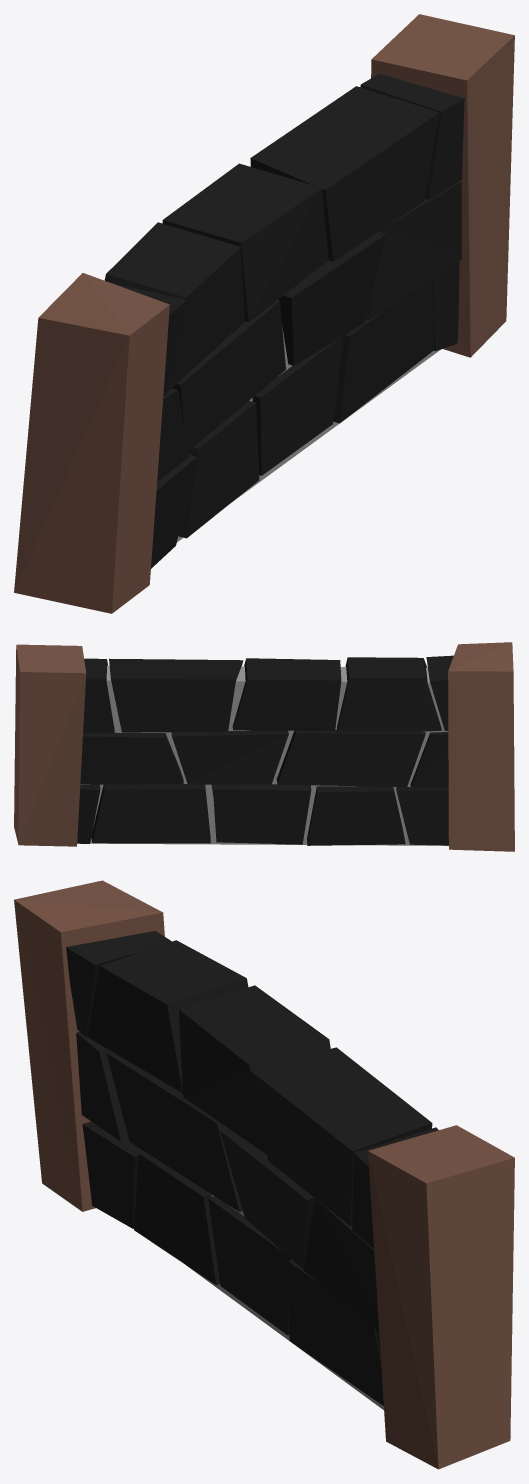
Rendered from scene_sGbF66m3eO.glb.
3 views of the same model, one above another, from view 1: azimuth 30°, elevation 25°; view 2: azimuth 150°, elevation 25°; view 3: azimuth 270°, elevation 25° (orthographic). The views are drawn at different scales.
Parts seen in each view (by area): view 1: group985588079, group1299054, group1817549644, group1496942721, group228703815, group1177403203, group1666081505, group1343047251, group364885226, group412784191, group810626961, group257346678 (+5 smaller); view 2: group985588079, group1299054, group1817549644, group1177403203, group1496942721, group1666081505, group228703815, group412784191, group1343047251, group810626961, group364885226, group1267628213 (+5 smaller); view 3: group1299054, group985588079, group1817549644, group1496942721, group228703815, group1177403203, group1666081505, group810626961, group412784191, group1343047251, group364885226, group1962026485 (+4 smaller).
Boxes of the visible parts, left/top/right/bottom form: group985588079: left=14, top=273, right=169, bottom=613; group1299054: left=371, top=14, right=514, bottom=357; group1817549644: left=250, top=86, right=439, bottom=261; group1496942721: left=162, top=163, right=328, bottom=322; group228703815: left=104, top=222, right=244, bottom=392; group1177403203: left=172, top=300, right=285, bottom=451; group1666081505: left=333, top=279, right=434, bottom=423; group1343047251: left=278, top=232, right=386, bottom=365; group364885226: left=365, top=181, right=461, bottom=319; group412784191: left=252, top=336, right=343, bottom=475; group810626961: left=178, top=401, right=259, bottom=538; group257346678: left=360, top=73, right=464, bottom=199; group985588079: left=448, top=642, right=514, bottom=851; group1299054: left=14, top=644, right=86, bottom=846; group1817549644: left=109, top=658, right=243, bottom=732; group1177403203: left=276, top=729, right=425, bottom=786; group1496942721: left=232, top=658, right=341, bottom=730; group1666081505: left=91, top=784, right=210, bottom=843; group228703815: left=337, top=657, right=441, bottom=731; group412784191: left=211, top=784, right=311, bottom=844; group1343047251: left=171, top=730, right=288, bottom=784; group810626961: left=307, top=786, right=405, bottom=845; group364885226: left=80, top=732, right=183, bottom=784; group1267628213: left=80, top=665, right=448, bottom=845; group1299054: left=368, top=1125, right=514, bottom=1469; group985588079: left=14, top=880, right=164, bottom=1211; group1817549644: left=250, top=1047, right=432, bottom=1226; group1496942721: left=179, top=985, right=330, bottom=1154; group228703815: left=87, top=940, right=248, bottom=1092; group1177403203: left=106, top=1051, right=242, bottom=1211; group1666081505: left=288, top=1260, right=383, bottom=1405; group810626961: left=134, top=1151, right=219, bottom=1285; group412784191: left=208, top=1196, right=291, bottom=1335; group1343047251: left=220, top=1127, right=315, bottom=1268; group364885226: left=303, top=1199, right=379, bottom=1331; group1962026485: left=82, top=1121, right=144, bottom=1228.
Bounding box in the file's own units: 1.13 × 0.4831 × 0.7552.
